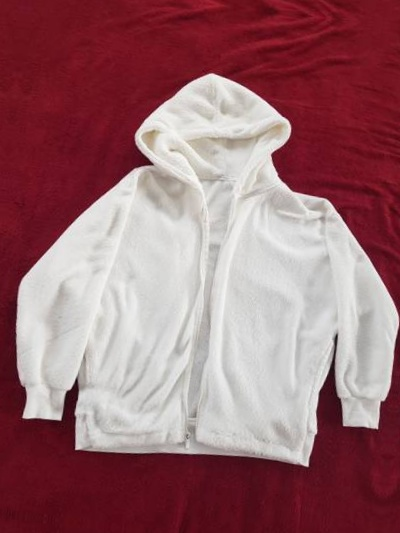Hoodie: (0, 39, 400, 497), (386, 87, 400, 533), (0, 0, 4, 445)
